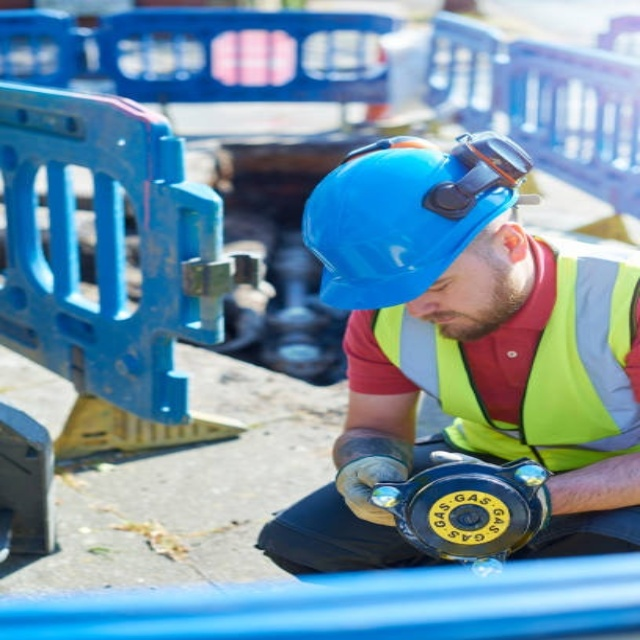Guantes: (333, 431, 415, 522)
Sin_gafas: (424, 262, 482, 297)
Sin_mascara: (416, 310, 475, 339)
